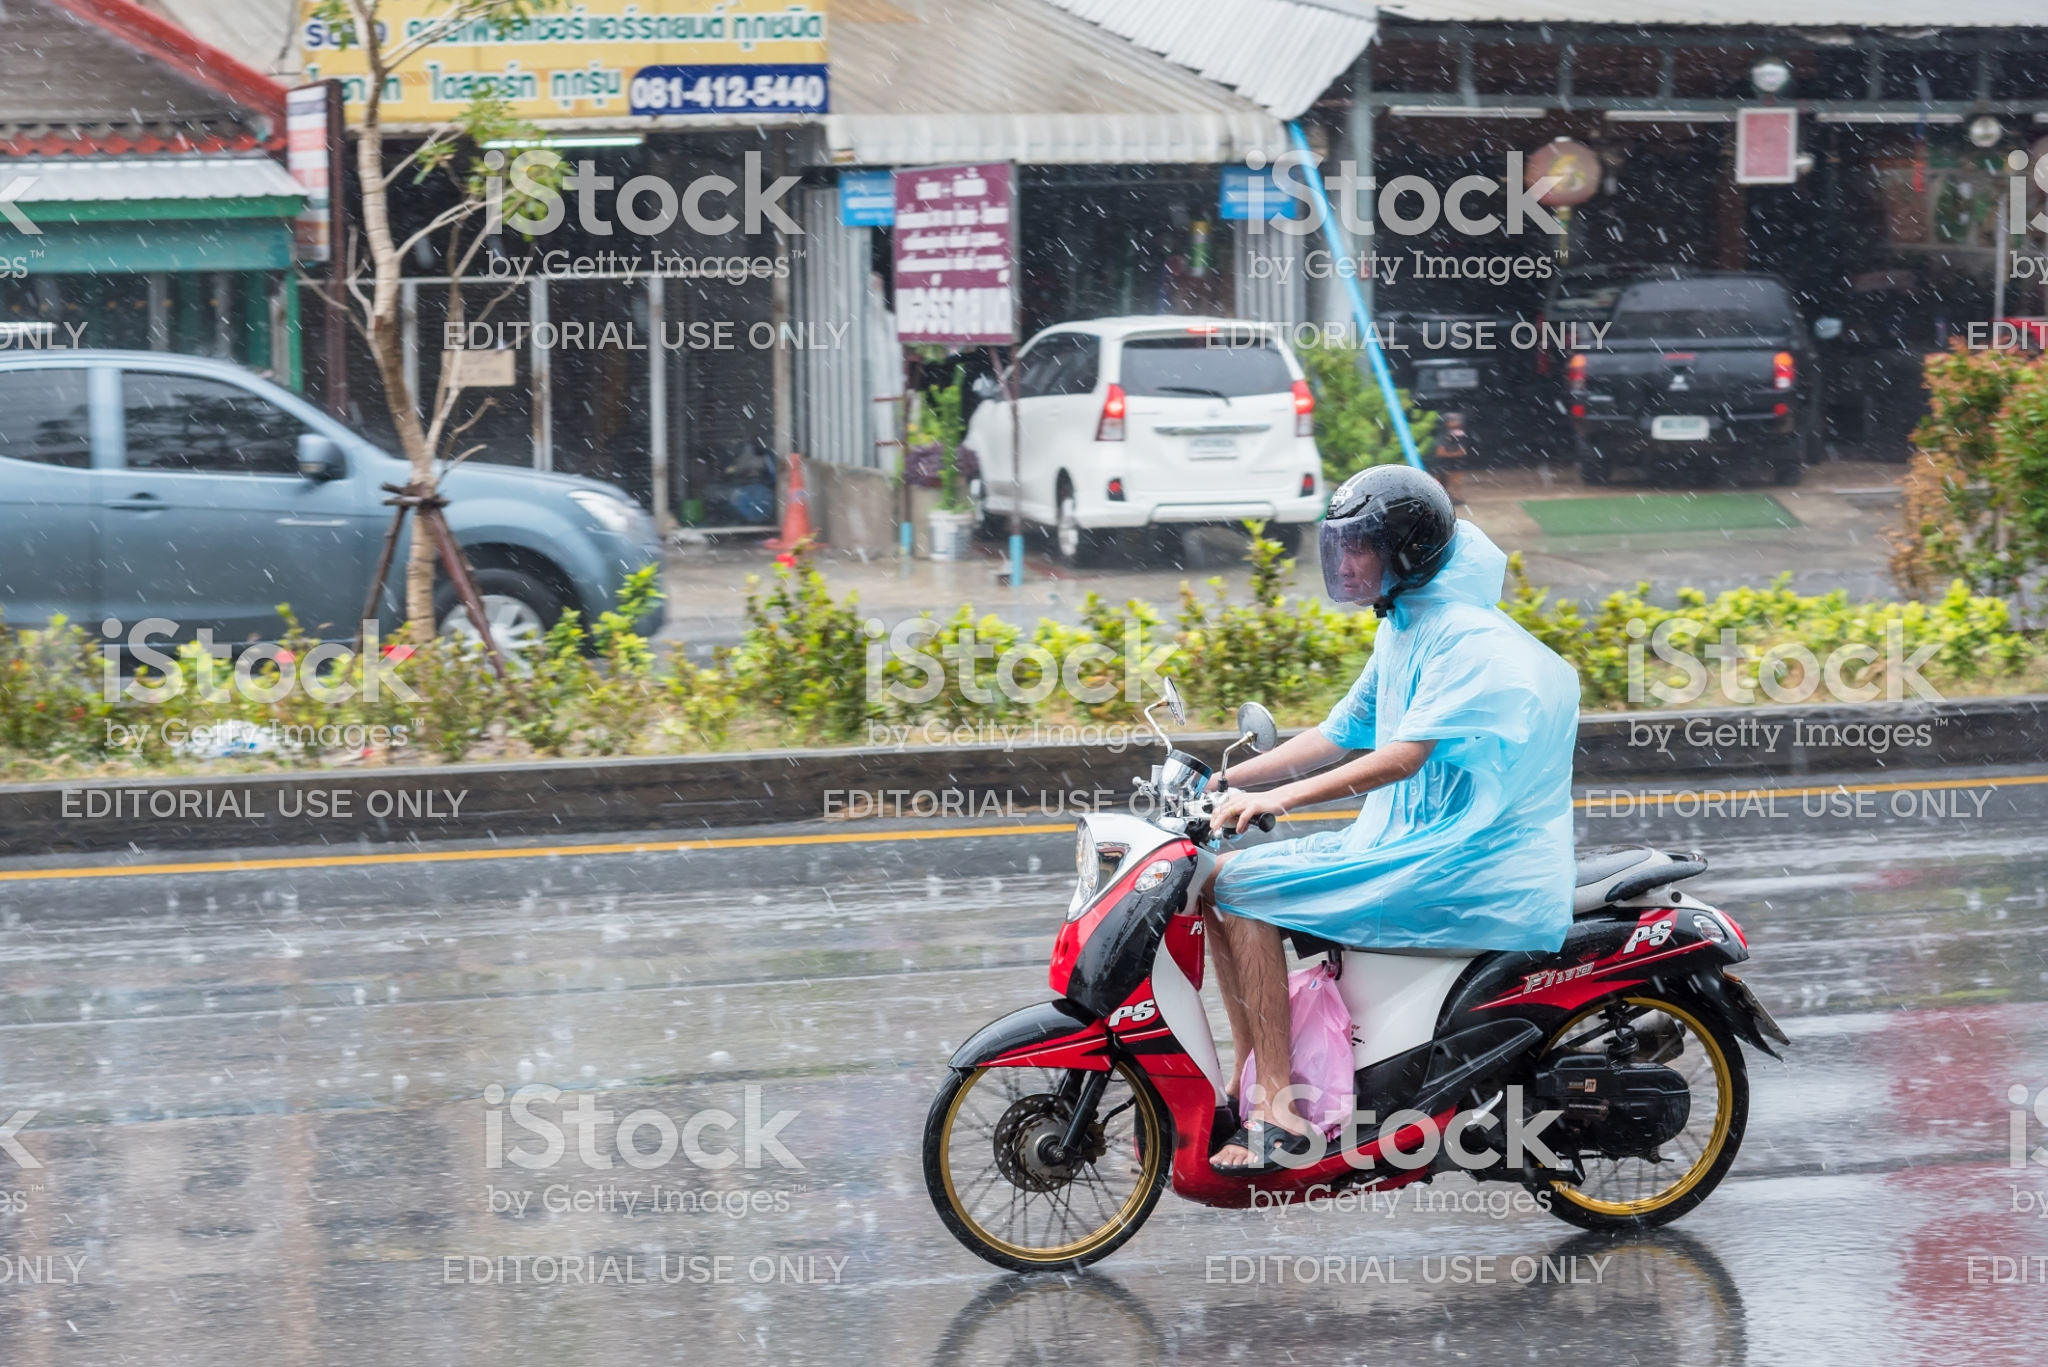helmet: (1311, 462, 1472, 603)
